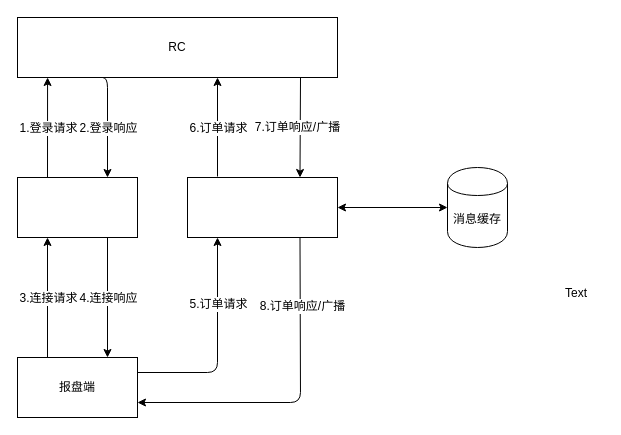
Some shapes in this 621 by 435 pixel diagram are drawn without their labels. Here are the shapes that lost their labels. From the top down, the centre of each, then its label:
At point 77,207: "连接管理".
At point 262,207: "消息验证/路由".
